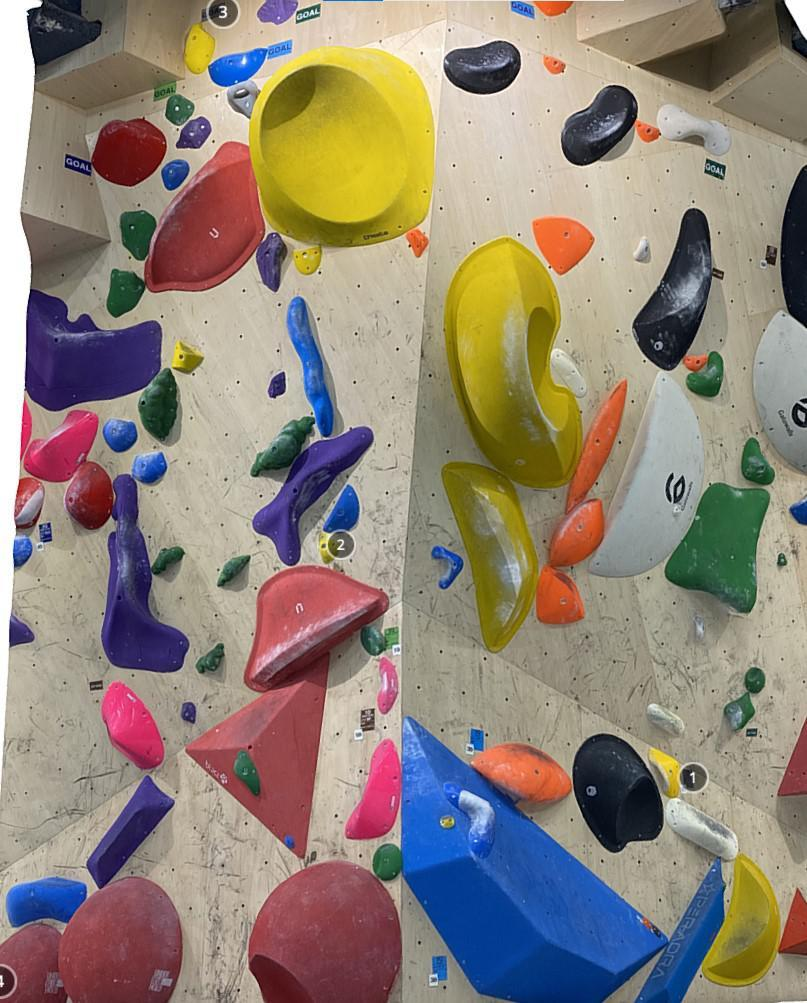hold: (401, 715, 668, 1003), (248, 46, 435, 246), (444, 234, 583, 488), (185, 651, 330, 858), (587, 370, 705, 577), (247, 861, 402, 1003), (440, 462, 539, 653), (243, 566, 389, 692), (144, 141, 265, 293), (102, 473, 189, 672), (252, 426, 373, 566), (25, 289, 162, 411), (58, 877, 183, 1003), (664, 482, 770, 613), (633, 856, 726, 1003), (632, 208, 712, 371), (572, 733, 664, 852), (701, 853, 780, 986), (86, 775, 174, 888), (752, 308, 807, 473), (565, 378, 628, 514), (286, 296, 333, 436), (469, 743, 572, 804), (561, 85, 637, 165), (345, 738, 401, 840), (101, 681, 164, 769), (24, 409, 99, 482), (0, 923, 68, 1003), (92, 118, 166, 186), (27, 0, 102, 65), (665, 798, 738, 861), (780, 164, 807, 329), (443, 41, 521, 94), (6, 876, 87, 927), (442, 783, 496, 859), (250, 416, 315, 476), (656, 103, 731, 155), (550, 498, 605, 567), (532, 216, 594, 276), (63, 461, 114, 529), (536, 564, 585, 625), (138, 367, 178, 440), (777, 714, 807, 796), (208, 48, 269, 87), (778, 887, 807, 955), (107, 268, 145, 317), (120, 210, 156, 261), (323, 484, 359, 534), (550, 348, 586, 398), (255, 232, 284, 292), (686, 351, 723, 397), (649, 746, 681, 798), (741, 437, 774, 485), (184, 23, 215, 74), (14, 477, 44, 529), (431, 546, 463, 589), (234, 749, 261, 797), (646, 703, 685, 736), (227, 80, 260, 118), (724, 692, 755, 731), (102, 418, 137, 452), (216, 554, 252, 587), (176, 116, 212, 148), (378, 657, 398, 714), (172, 339, 205, 373), (131, 451, 166, 483), (373, 844, 403, 880), (257, 0, 298, 24), (151, 546, 184, 575), (292, 244, 322, 275), (195, 643, 225, 674), (165, 94, 194, 126), (9, 613, 35, 648), (161, 159, 189, 189), (360, 625, 387, 656), (20, 398, 32, 463), (406, 228, 429, 257), (319, 532, 340, 563), (13, 534, 32, 568), (533, 1, 575, 16), (634, 119, 660, 143), (789, 493, 807, 525), (744, 667, 765, 693), (267, 371, 286, 398), (792, 25, 807, 58), (543, 54, 566, 74), (633, 235, 650, 261), (682, 355, 708, 371), (181, 702, 196, 724), (695, 616, 705, 642), (440, 815, 455, 828), (641, 917, 653, 931), (284, 834, 295, 849), (777, 553, 787, 565), (653, 925, 661, 938)
